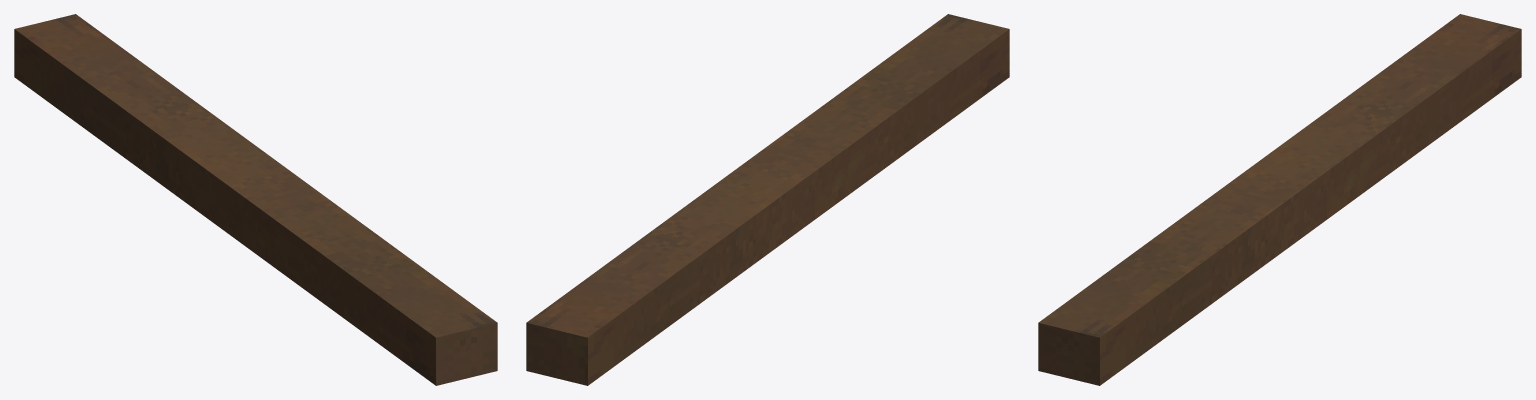
File: Plank1.glb
The picture shows the model from 3 angles, left to right: view 1: azimuth 30°, elevation 25°; view 2: azimuth 150°, elevation 25°; view 3: azimuth 330°, elevation 25°; orthographic projection.
Parts seen in each view (by area): view 1: Cube.141; view 2: Cube.141; view 3: Cube.141.
Part boxes in pixels (<box>): Cube.141: <box>14,14,497,385</box>; Cube.141: <box>526,14,1009,385</box>; Cube.141: <box>1038,14,1521,385</box>.
Bounding box in the file's own units: 0.416 × 0.3114 × 4.94.
1 material, 1 textured.
